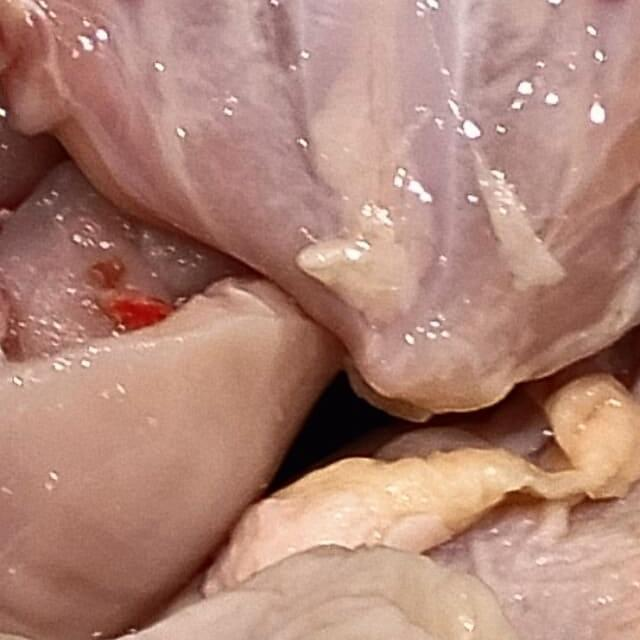chicken: (0, 493, 640, 640)
